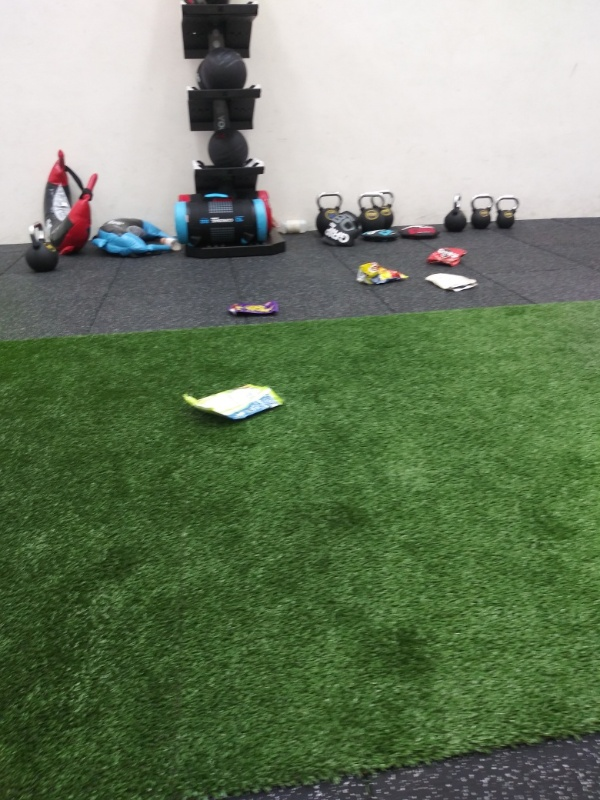bag: (178, 381, 289, 430), (347, 258, 412, 288), (426, 267, 483, 292), (424, 245, 470, 271), (227, 296, 277, 319)
